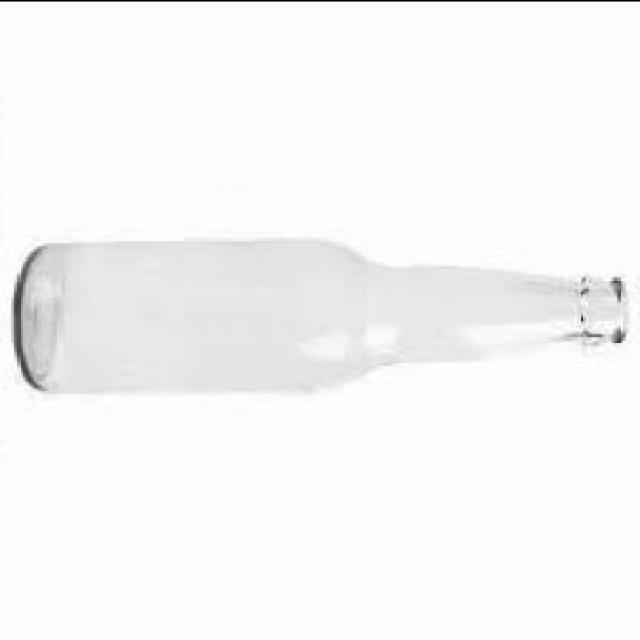GLASS: (17, 236, 629, 396)
